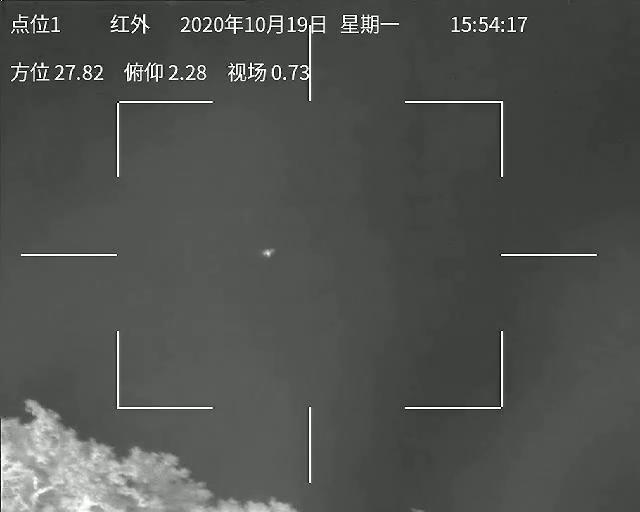uav: (261, 247, 276, 259)
